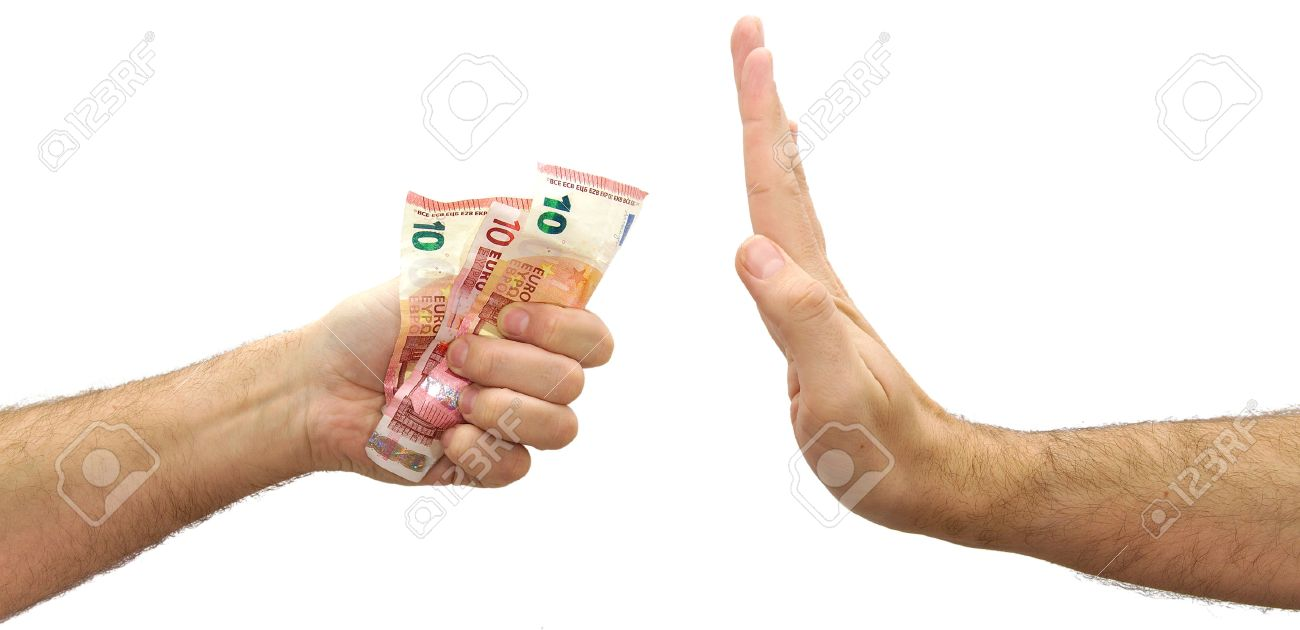billete: (359, 157, 654, 485)
